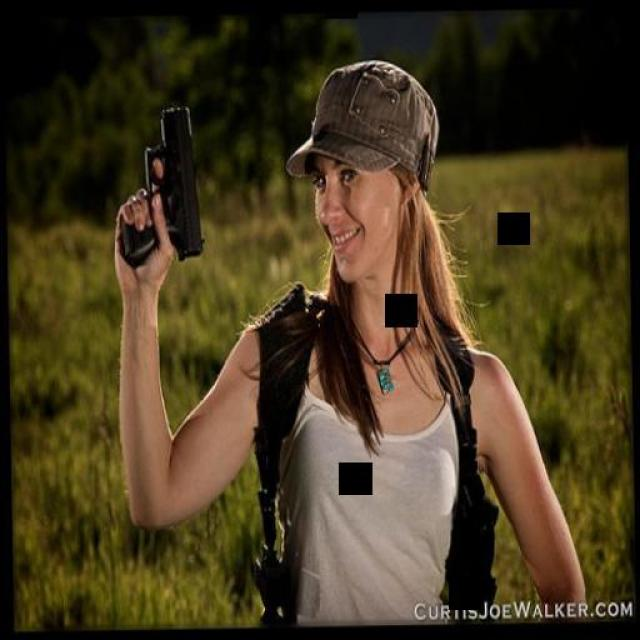gun: (118, 102, 200, 262)
